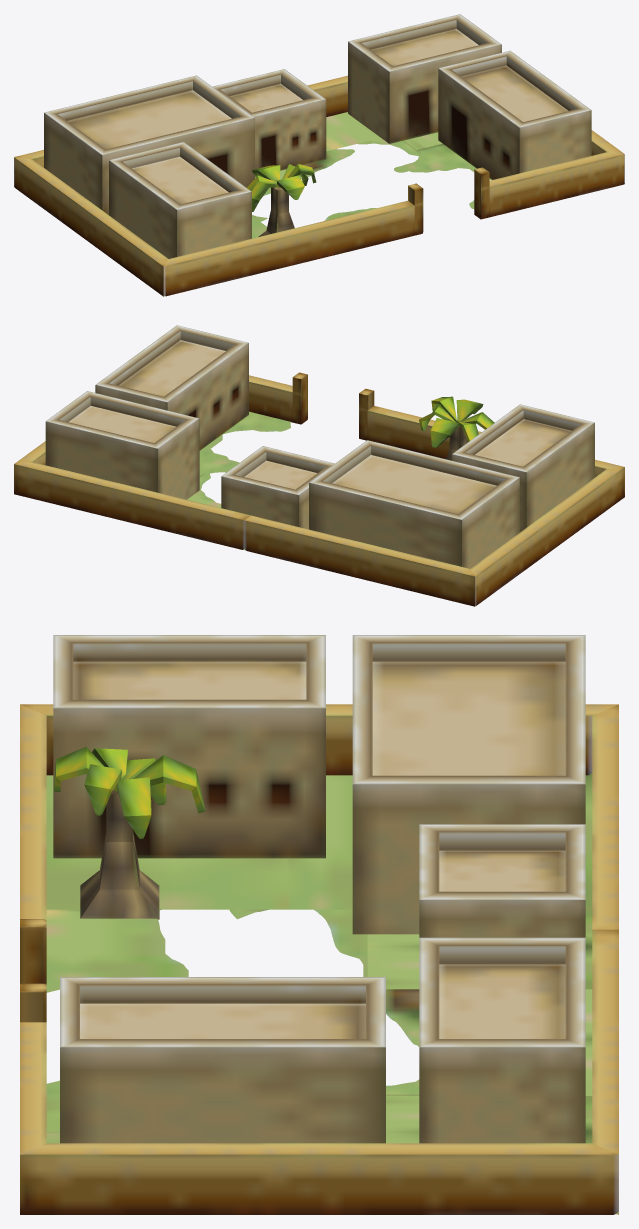
File: Poly_World_Map_Town_House_09.obj
3 views of the same model, one above another, from view 1: azimuth 30°, elevation 25°; view 2: azimuth 150°, elevation 25°; view 3: azimuth 270°, elevation 25° (orthographic). The views are drawn at different scales.
Visible parts, largest first — view 1: Cube.002_Cube.001, Grid, Plane, Cube.002_Cube.002, Cube.002_Cube.003, Cube.002_Cube.004; view 2: Cube.002_Cube.001, Grid, Plane, Cube.002_Cube.002, Cube.002_Cube.003, Cube.002_Cube.004; view 3: Cube.002_Cube.001, Grid, Plane, Cube.002_Cube.002, Cube.002_Cube.003, Cube.002_Cube.004.
Part boxes in pixels (bbox=[...]): Cube.002_Cube.001: bbox=[44, 14, 591, 258]; Grid: bbox=[14, 75, 624, 296]; Plane: bbox=[14, 112, 491, 296]; Cube.002_Cube.002: bbox=[252, 165, 304, 199]; Cube.002_Cube.003: bbox=[251, 164, 308, 211]; Cube.002_Cube.004: bbox=[246, 164, 316, 191]; Cube.002_Cube.001: bbox=[45, 325, 594, 568]; Grid: bbox=[14, 372, 624, 606]; Plane: bbox=[187, 411, 475, 605]; Cube.002_Cube.002: bbox=[430, 399, 483, 447]; Cube.002_Cube.003: bbox=[419, 405, 494, 430]; Cube.002_Cube.004: bbox=[431, 396, 478, 441]; Cube.002_Cube.001: bbox=[53, 635, 585, 1143]; Grid: bbox=[20, 704, 618, 1214]; Plane: bbox=[46, 772, 618, 1214]; Cube.002_Cube.002: bbox=[54, 746, 204, 813]; Cube.002_Cube.003: bbox=[92, 748, 151, 838]; Cube.002_Cube.004: bbox=[84, 758, 166, 815].
Bounding box in the file's own units: 1.6 × 0.2507 × 0.9.
Materials: 1 (1 with a texture image).
